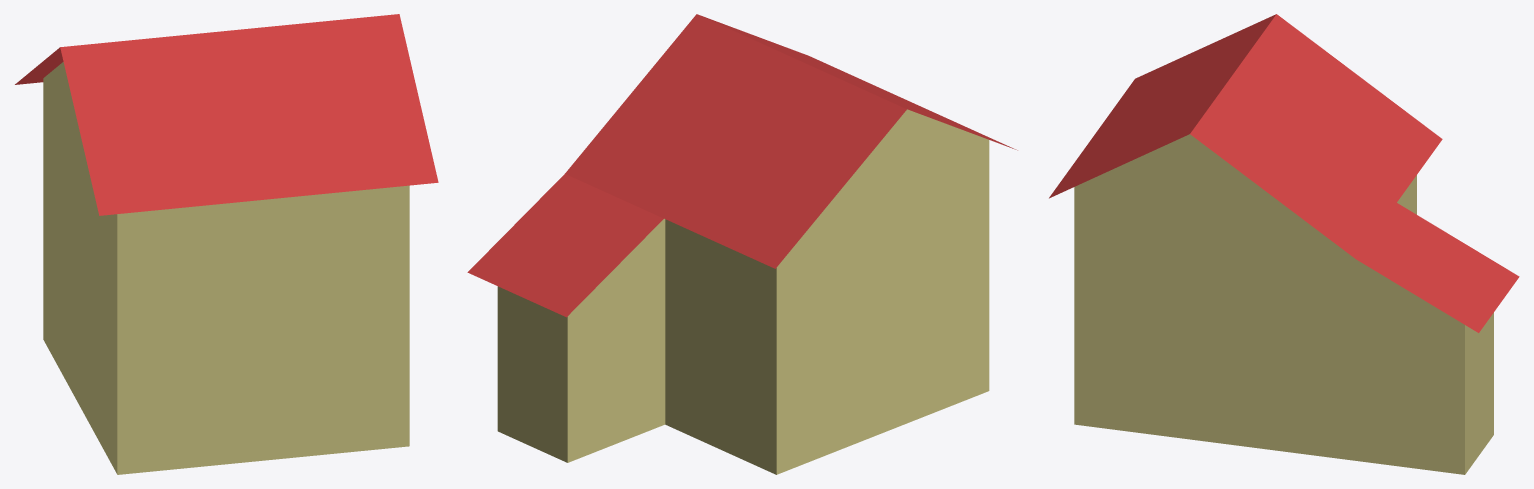
3 renders of one model, left to right at view 1: azimuth 30°, elevation 25°; view 2: azimuth 150°, elevation 25°; view 3: azimuth 270°, elevation 25°, orthographic. The views are drawn at different scales.
Size of the model in its own units: 15.05 by 17.07 by 12.57.
